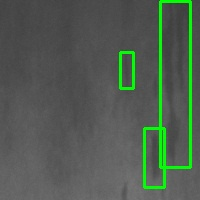inclusion: (160, 1, 190, 167), (144, 128, 164, 187), (120, 52, 133, 88)
